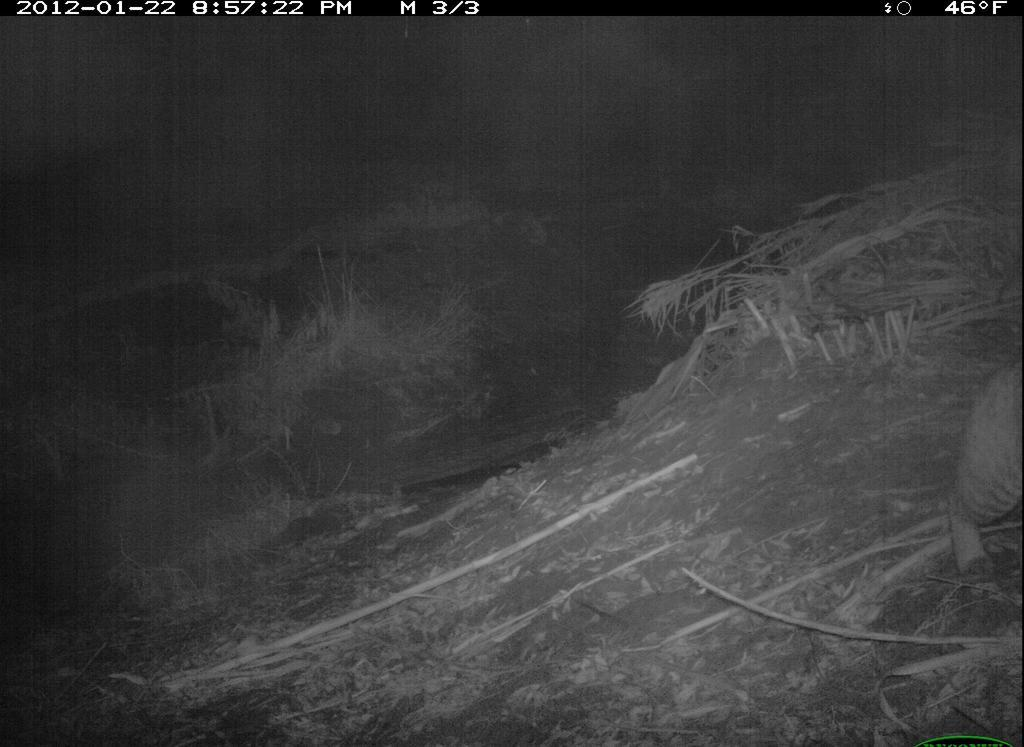bobcat: (931, 351, 1023, 611)
